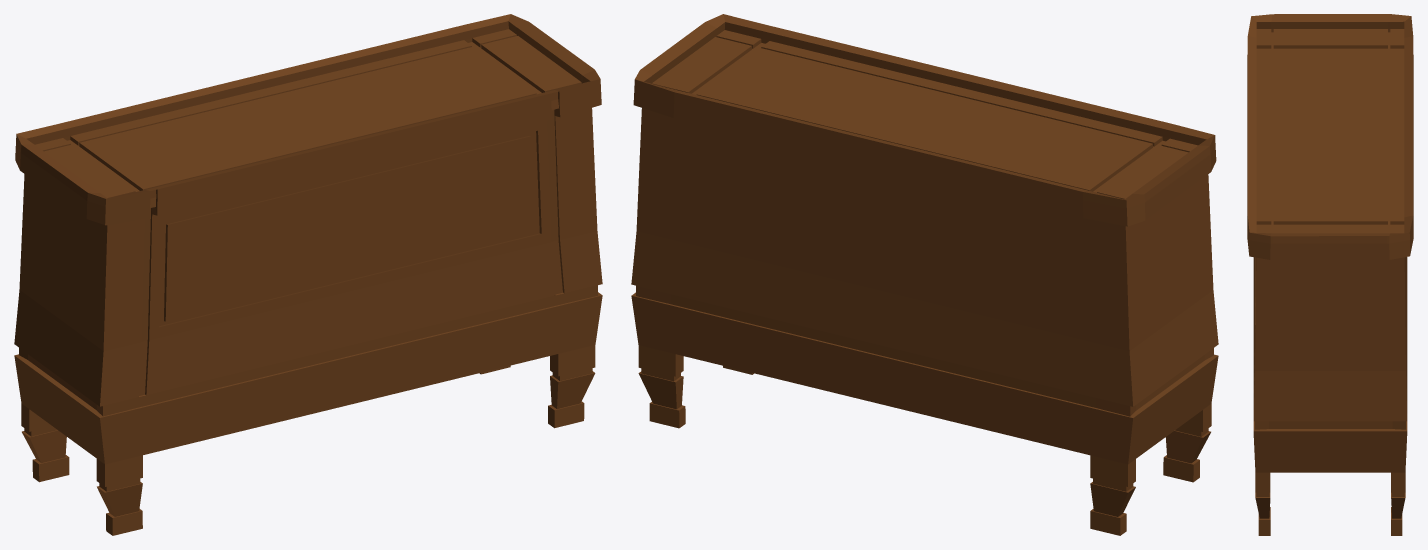
The model's file is altarTall.fbx.
3 renders of one model, left to right at view 1: azimuth 30°, elevation 25°; view 2: azimuth 150°, elevation 25°; view 3: azimuth 270°, elevation 25°, orthographic. The views are drawn at different scales.
Parts seen in each view (by area): view 1: Cube.008; view 2: Cube.008; view 3: Cube.008.
Boxes of the visible parts, x1,y1,x2,y2 form: Cube.008: (14, 14, 602, 535); Cube.008: (631, 14, 1218, 535); Cube.008: (1247, 14, 1413, 535).
Size of the model in its own units: 185 by 590 by 380.
